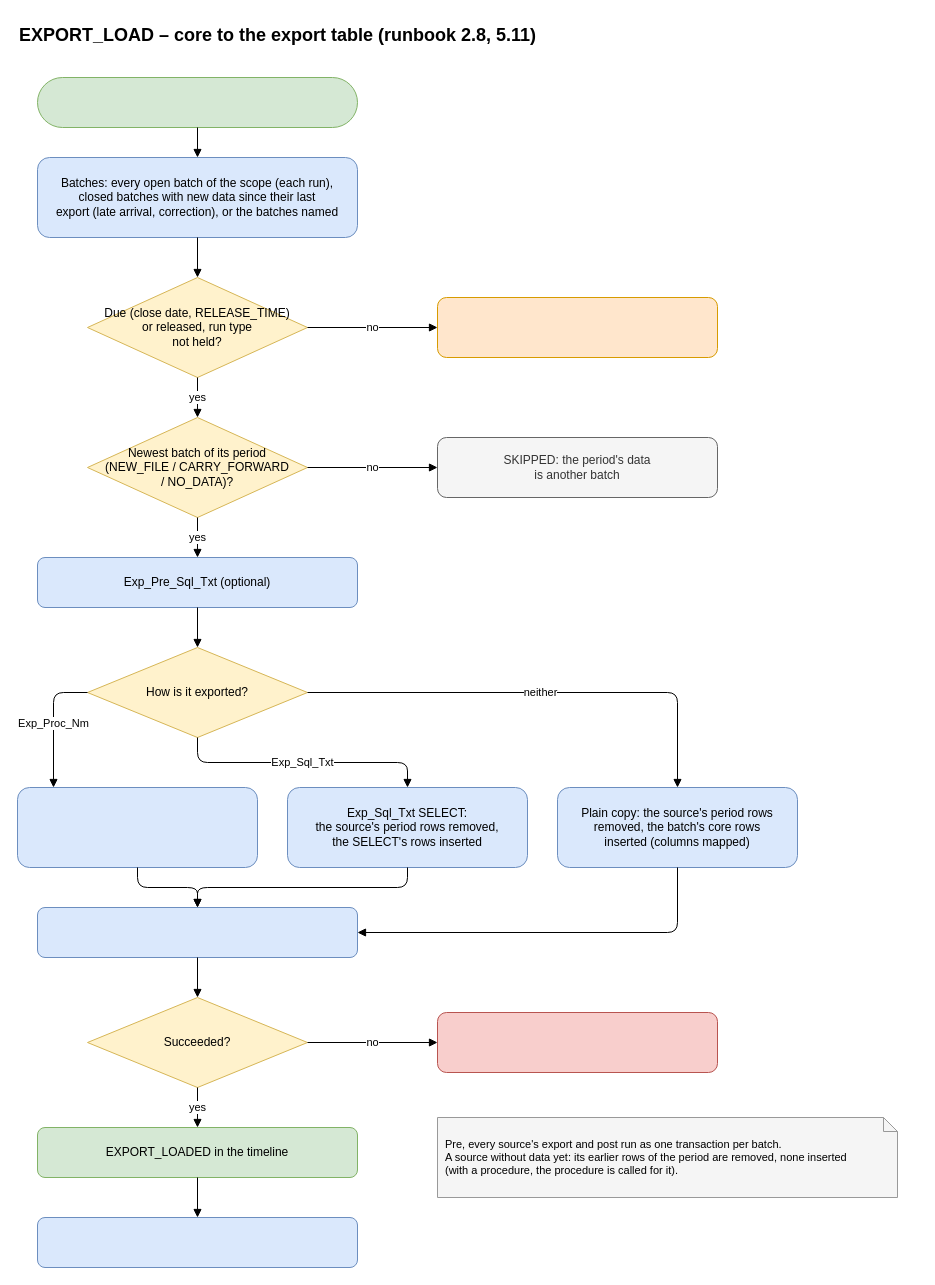
This 935x1285 diagram has some shape labels left out. The shapes that lost their labels are listed below. From the top down, each one's centre as x and y in pixels, then its label:
At point 197,102: "EXPORT_LOAD run (scope, batch, release, hold)".
At point 577,327: "held: listed in the report, exported when due or released".
At point 137,827: "Procedure Exp_Proc_Nm CALL with Exp_Proc_Parm_Txt; it deletes and inserts".
At point 197,932: "Exp_Post_Sql_Txt (optional)".
At point 577,1042: "Rolled back: EXPORT_LOAD_FAILED (emailed), exit 1".
At point 197,1242: "trigger FILE_RULES (and wait for it)".
